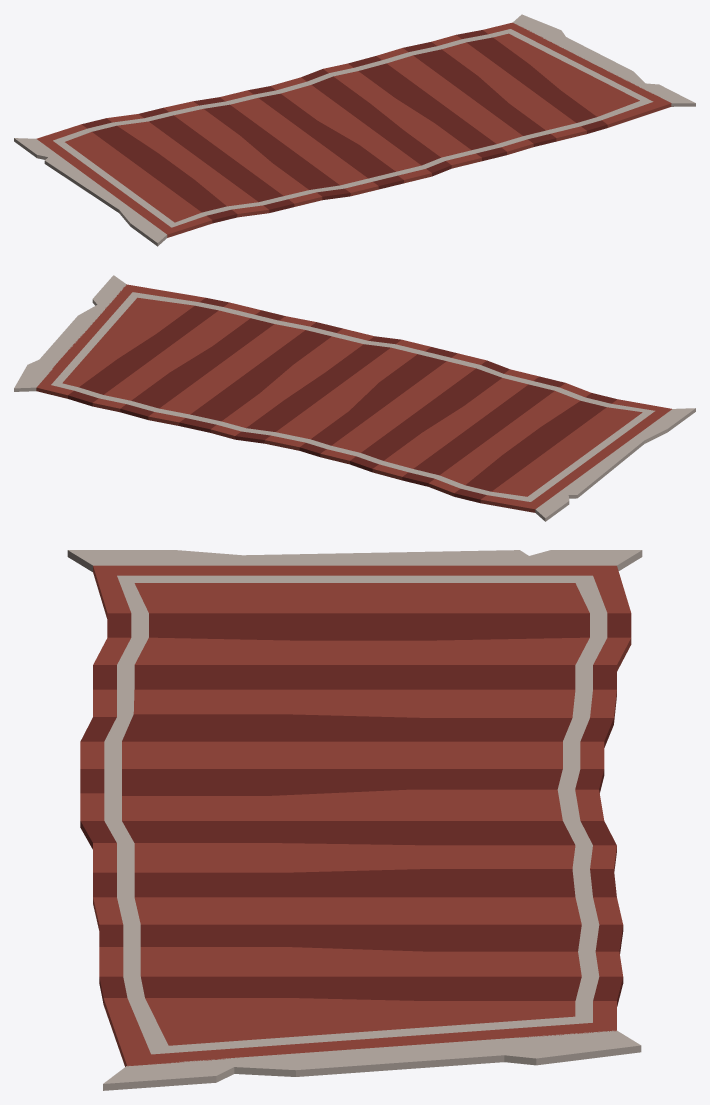
The model's file is SM_Carpet_B.gltf.
3 views of the same model, one above another, from view 1: azimuth 30°, elevation 25°; view 2: azimuth 150°, elevation 25°; view 3: azimuth 270°, elevation 25° (orthographic). The views are drawn at different scales.
Visible parts, largest first — view 1: SM_Carpet_B; view 2: SM_Carpet_B; view 3: SM_Carpet_B.
Part boxes in pixels (left/top/right/bottom): SM_Carpet_B: left=14, top=14, right=695, bottom=246; SM_Carpet_B: left=14, top=275, right=695, bottom=521; SM_Carpet_B: left=67, top=550, right=642, bottom=1090.
Size of the model in its own units: 2.94 by 0.0177 by 1.34.
1 material, 1 textured.
